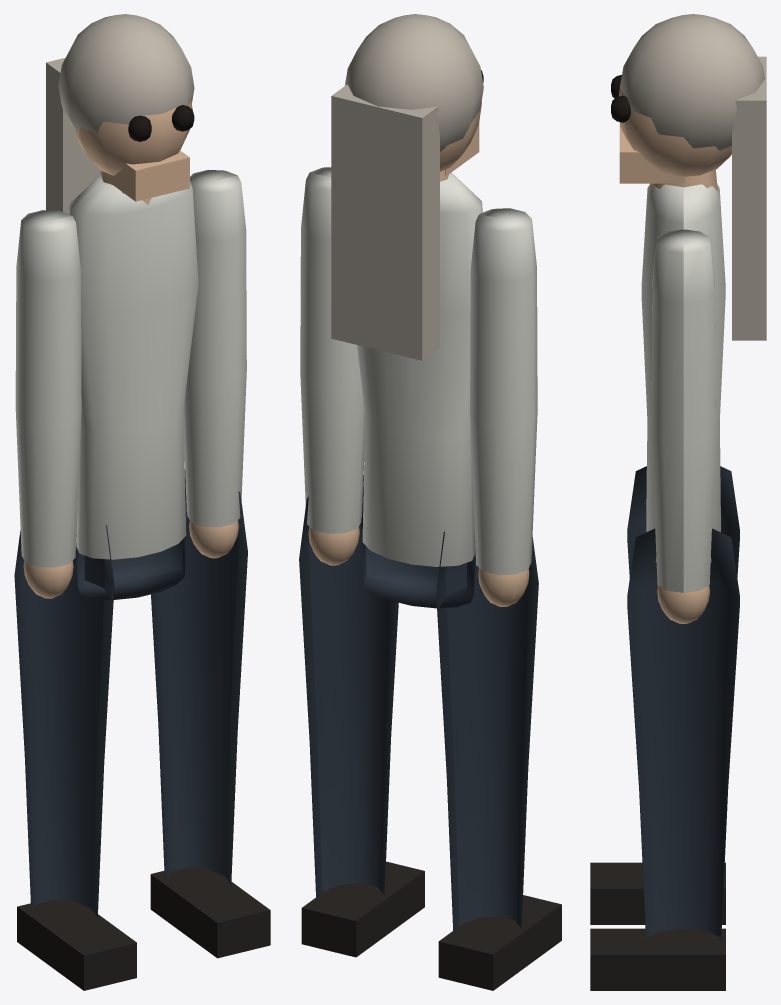
The model's file is npc_kowalski.glb.
3 views of the same model, side by side, from view 1: azimuth 30°, elevation 25°; view 2: azimuth 150°, elevation 25°; view 3: azimuth 270°, elevation 25° (orthographic). The views are drawn at different scales.
Parts seen in each view (by area): view 1: npc_kowalski; view 2: npc_kowalski; view 3: npc_kowalski.
Part boxes in pixels (x1,y1,x2,y2): npc_kowalski: (14, 14, 270, 990); npc_kowalski: (299, 14, 561, 990); npc_kowalski: (590, 14, 766, 990).
Size of what is drawn, in the model's own units: 0.4612 by 1.8 by 0.3119.
